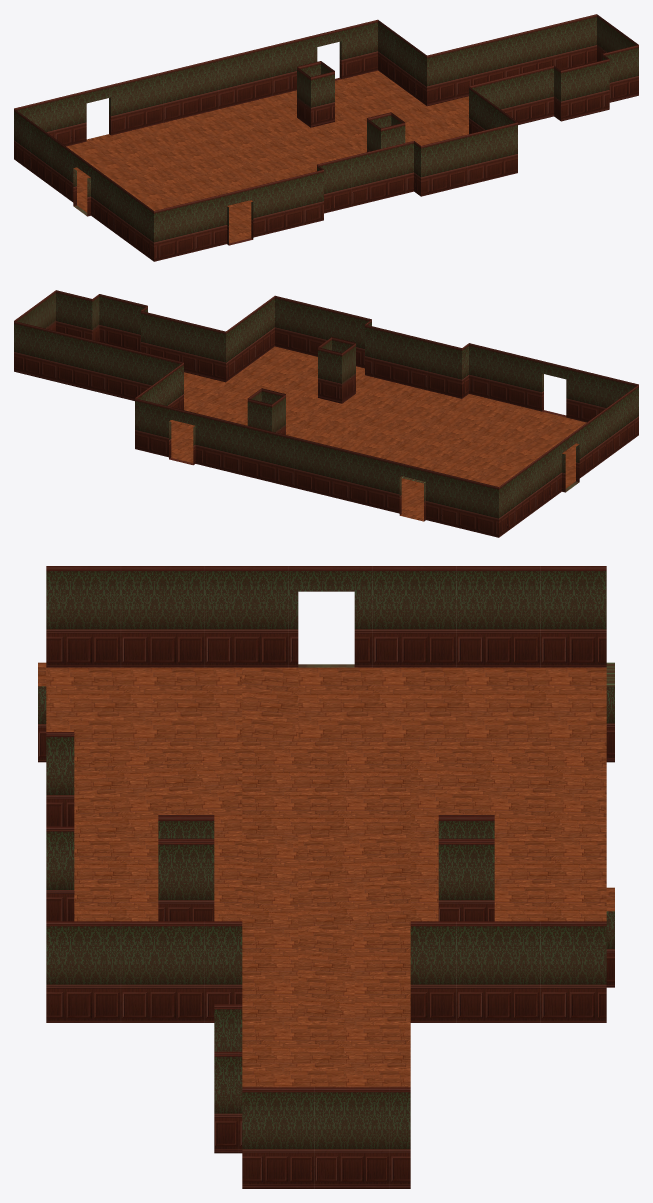
Rendered from room0.glb.
The picture shows the model from 3 angles, top to bottom: view 1: azimuth 30°, elevation 25°; view 2: azimuth 150°, elevation 25°; view 3: azimuth 270°, elevation 25°; orthographic projection. The views are drawn at different scales.
Visible parts, largest first — view 1: room0; view 2: room0; view 3: room0.
Part boxes in pixels (x1,y1,x2,y2): room0: [14, 14, 638, 261]; room0: [14, 290, 638, 537]; room0: [38, 566, 614, 1188].
Bounding box in the file's own units: 44.3 × 4 × 20.6.
2 materials, 2 textured.
